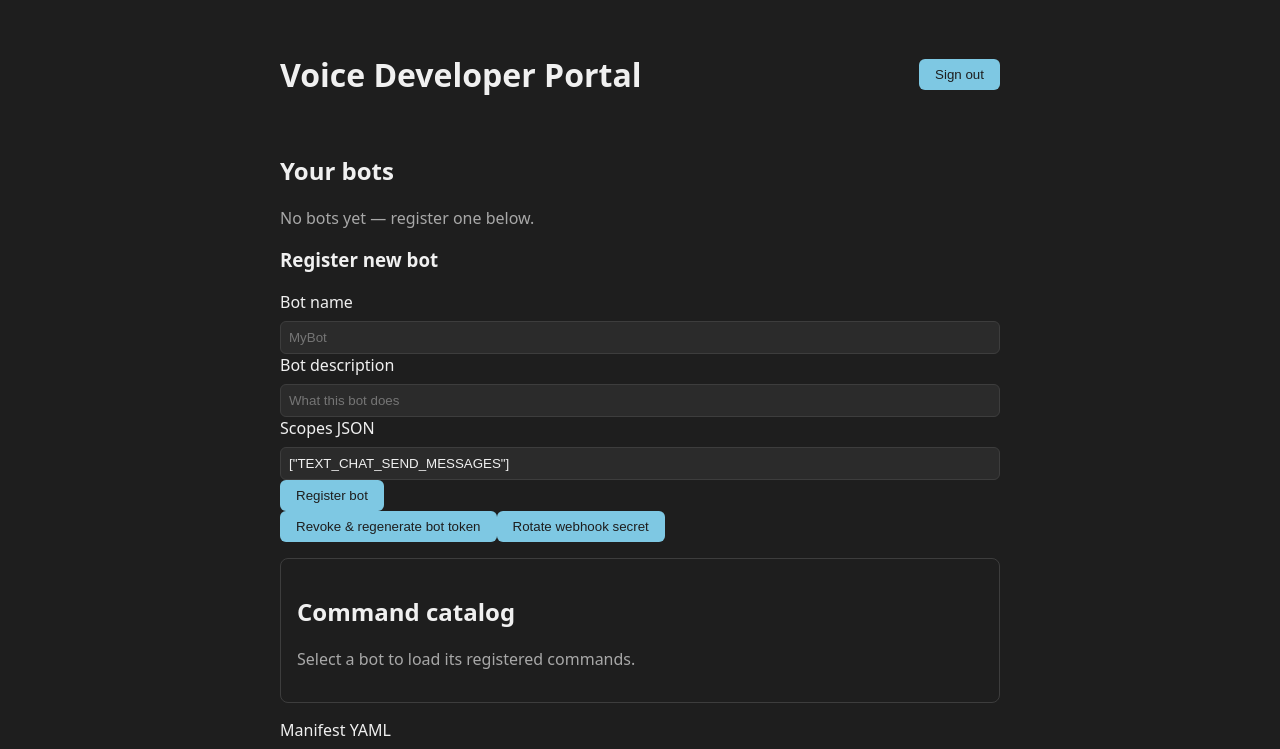
Test: App bot registration and selection › keeps focus in the dialog after copying one of two secrets, then traps Tab and Escape clears the remaining secret
The width and height of the screenshot is (1280, 749).
Expected: the element with test id "bot-register" is shown, [280, 247, 1000, 511]
Type "Partial copy Bot" into the field labelled "Bot name" at (640, 338), box [280, 321, 1000, 354]
Click the button "Register bot" at (332, 496), box [280, 480, 384, 511]
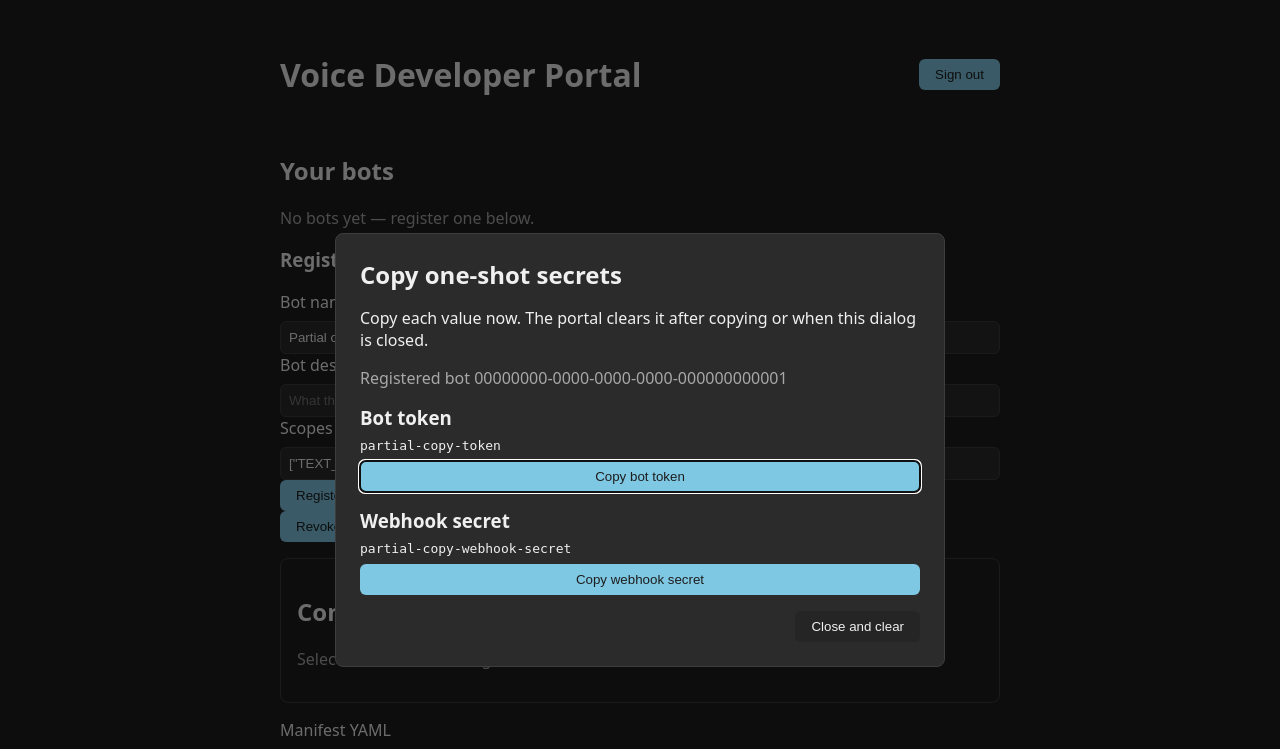
Click the button "Copy bot token" at (640, 476), box [360, 461, 920, 492]
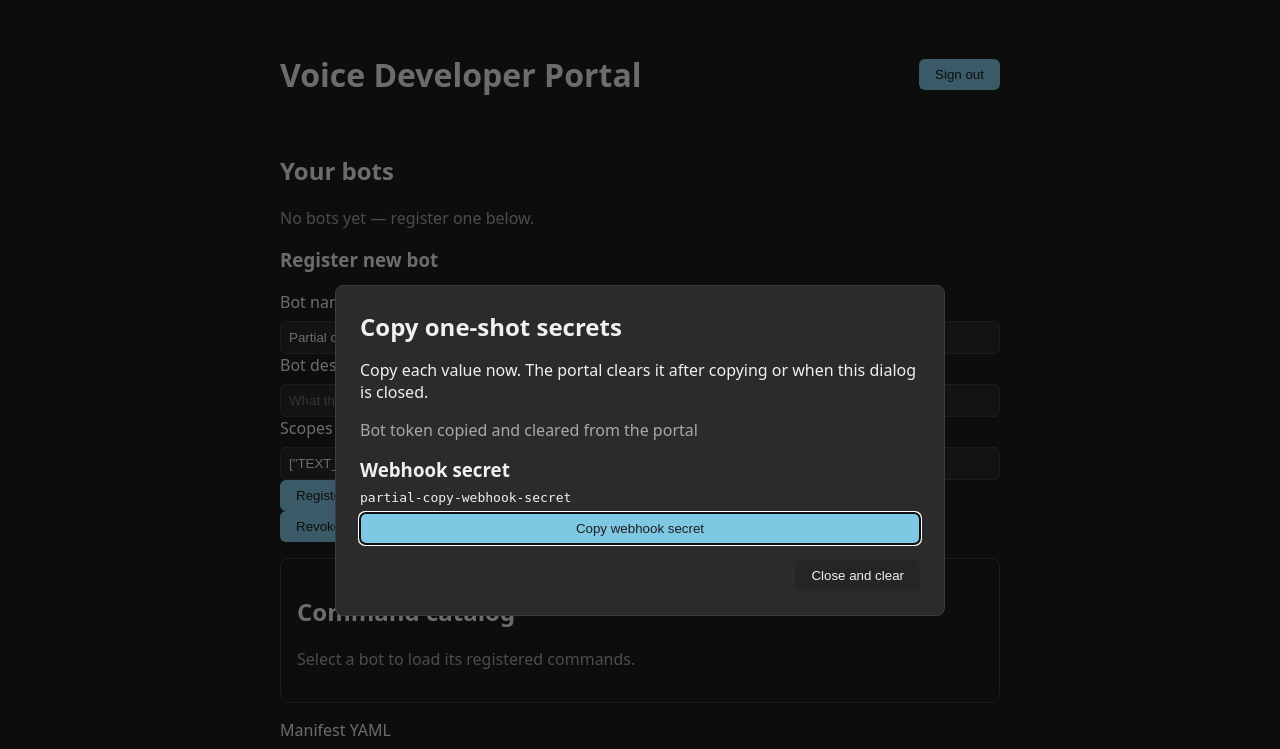
Press Tab
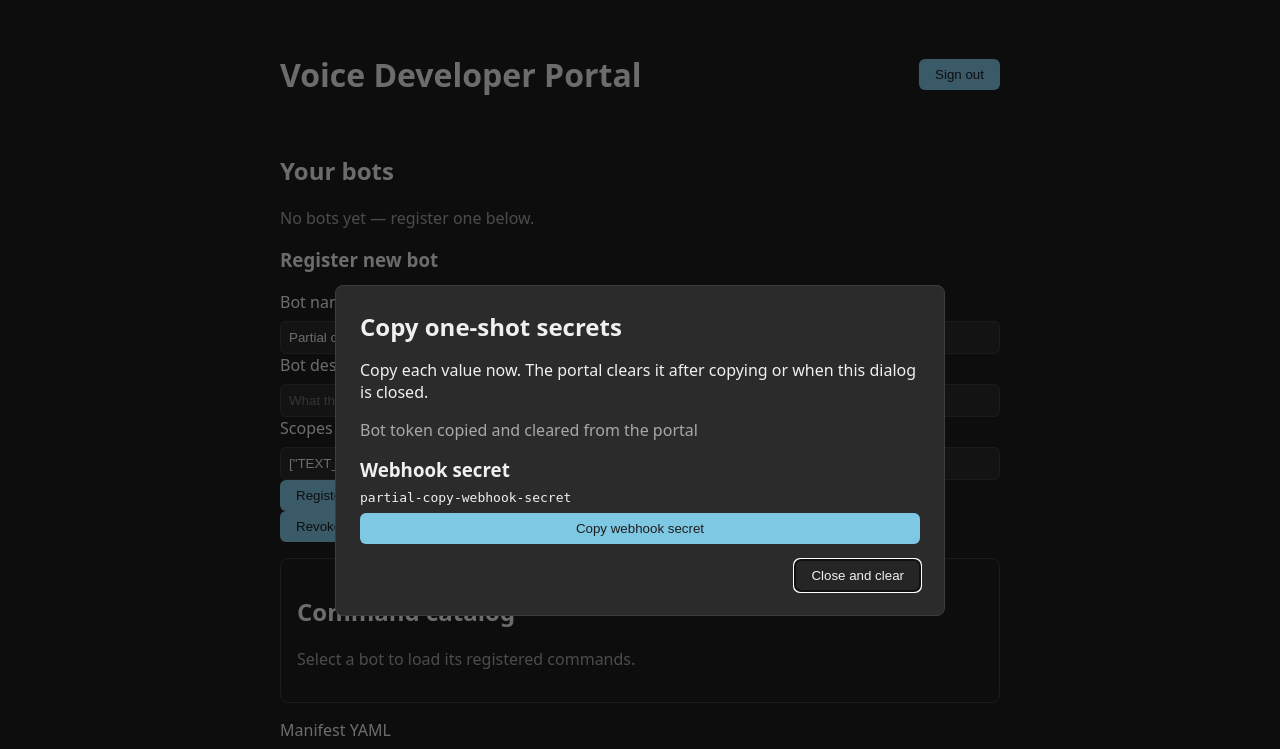
Press Tab
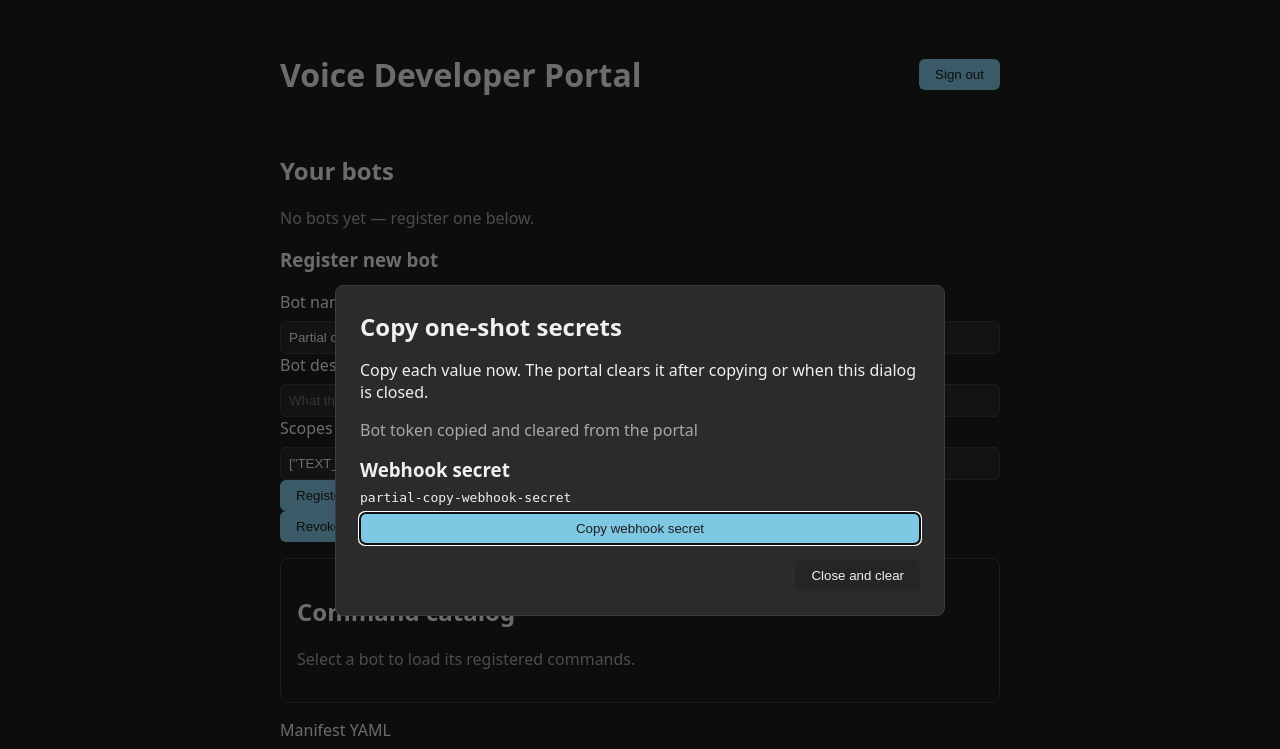
Press Shift+Tab
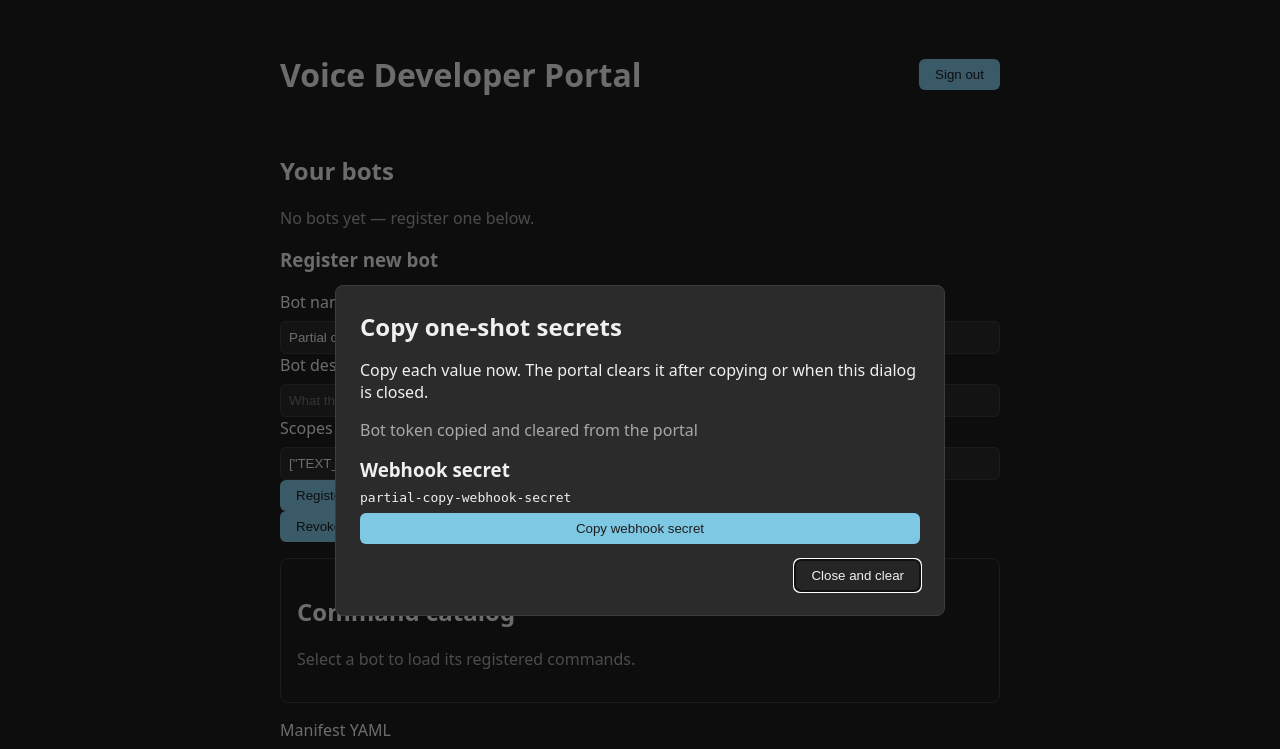
Press Escape
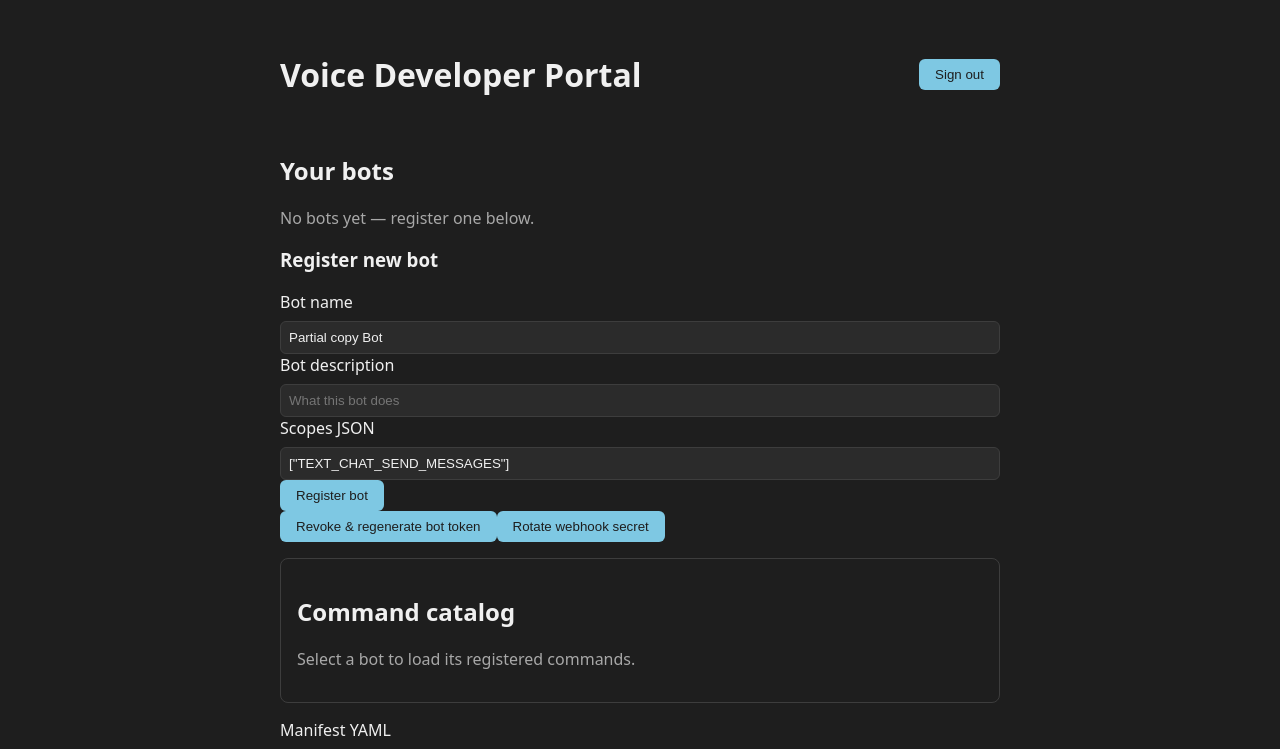
Result: the heading "Copy one-shot secrets" is gone
Result: the text "partial-copy-webhook-secret" is gone
